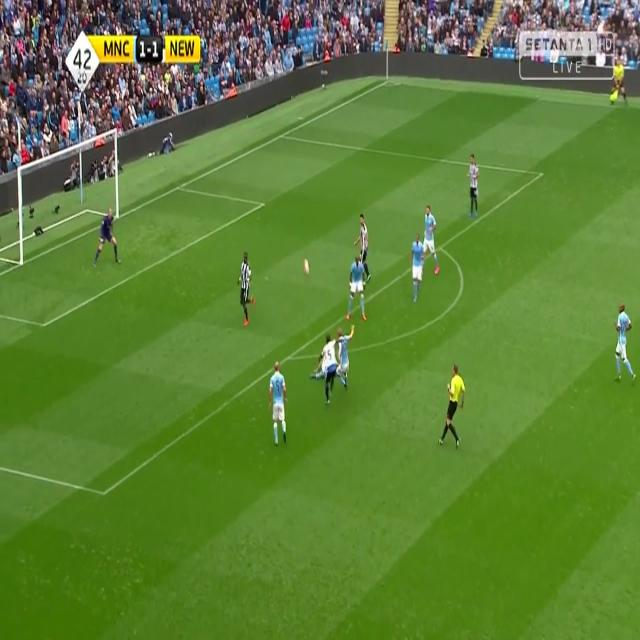Ball: (302, 254, 312, 278)
Goalkeeper: (91, 205, 123, 272)
Player: (613, 301, 637, 388), (268, 358, 291, 448), (237, 245, 260, 330), (318, 330, 339, 410), (421, 203, 443, 277), (347, 256, 368, 329), (335, 324, 356, 394), (353, 210, 373, 282), (411, 235, 426, 306), (467, 152, 481, 219)
Referee: (436, 362, 466, 449), (610, 55, 628, 110)
